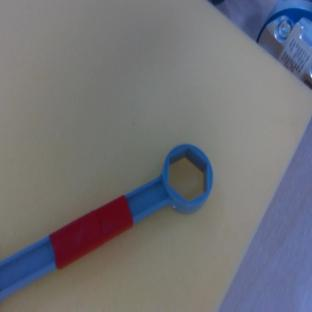part_3_good: (0, 138, 225, 302)
